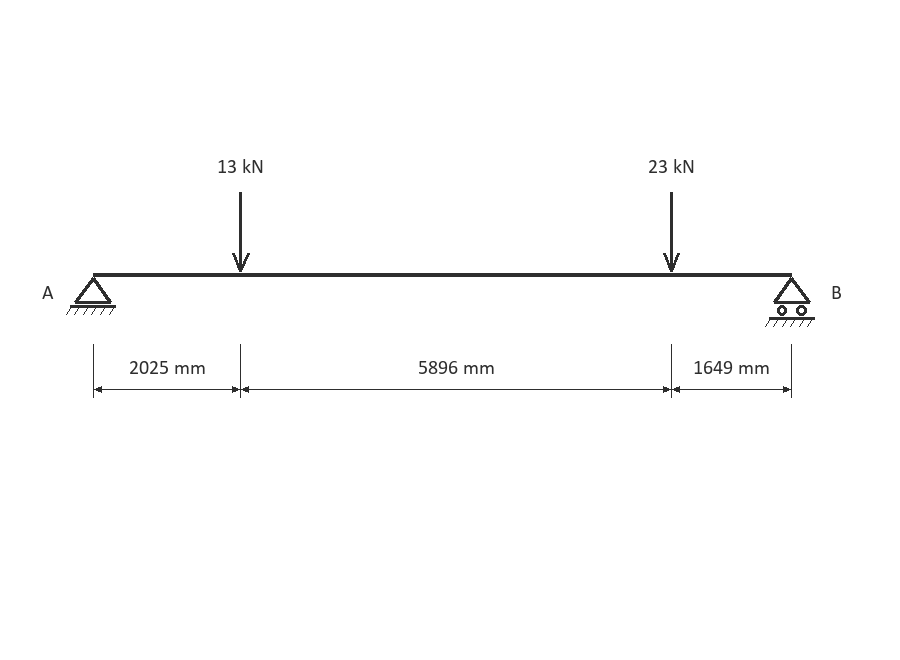pin_support: (66, 277, 116, 315)
point_load: (232, 192, 250, 272), (663, 192, 680, 272)
roller_support: (765, 277, 815, 327)
